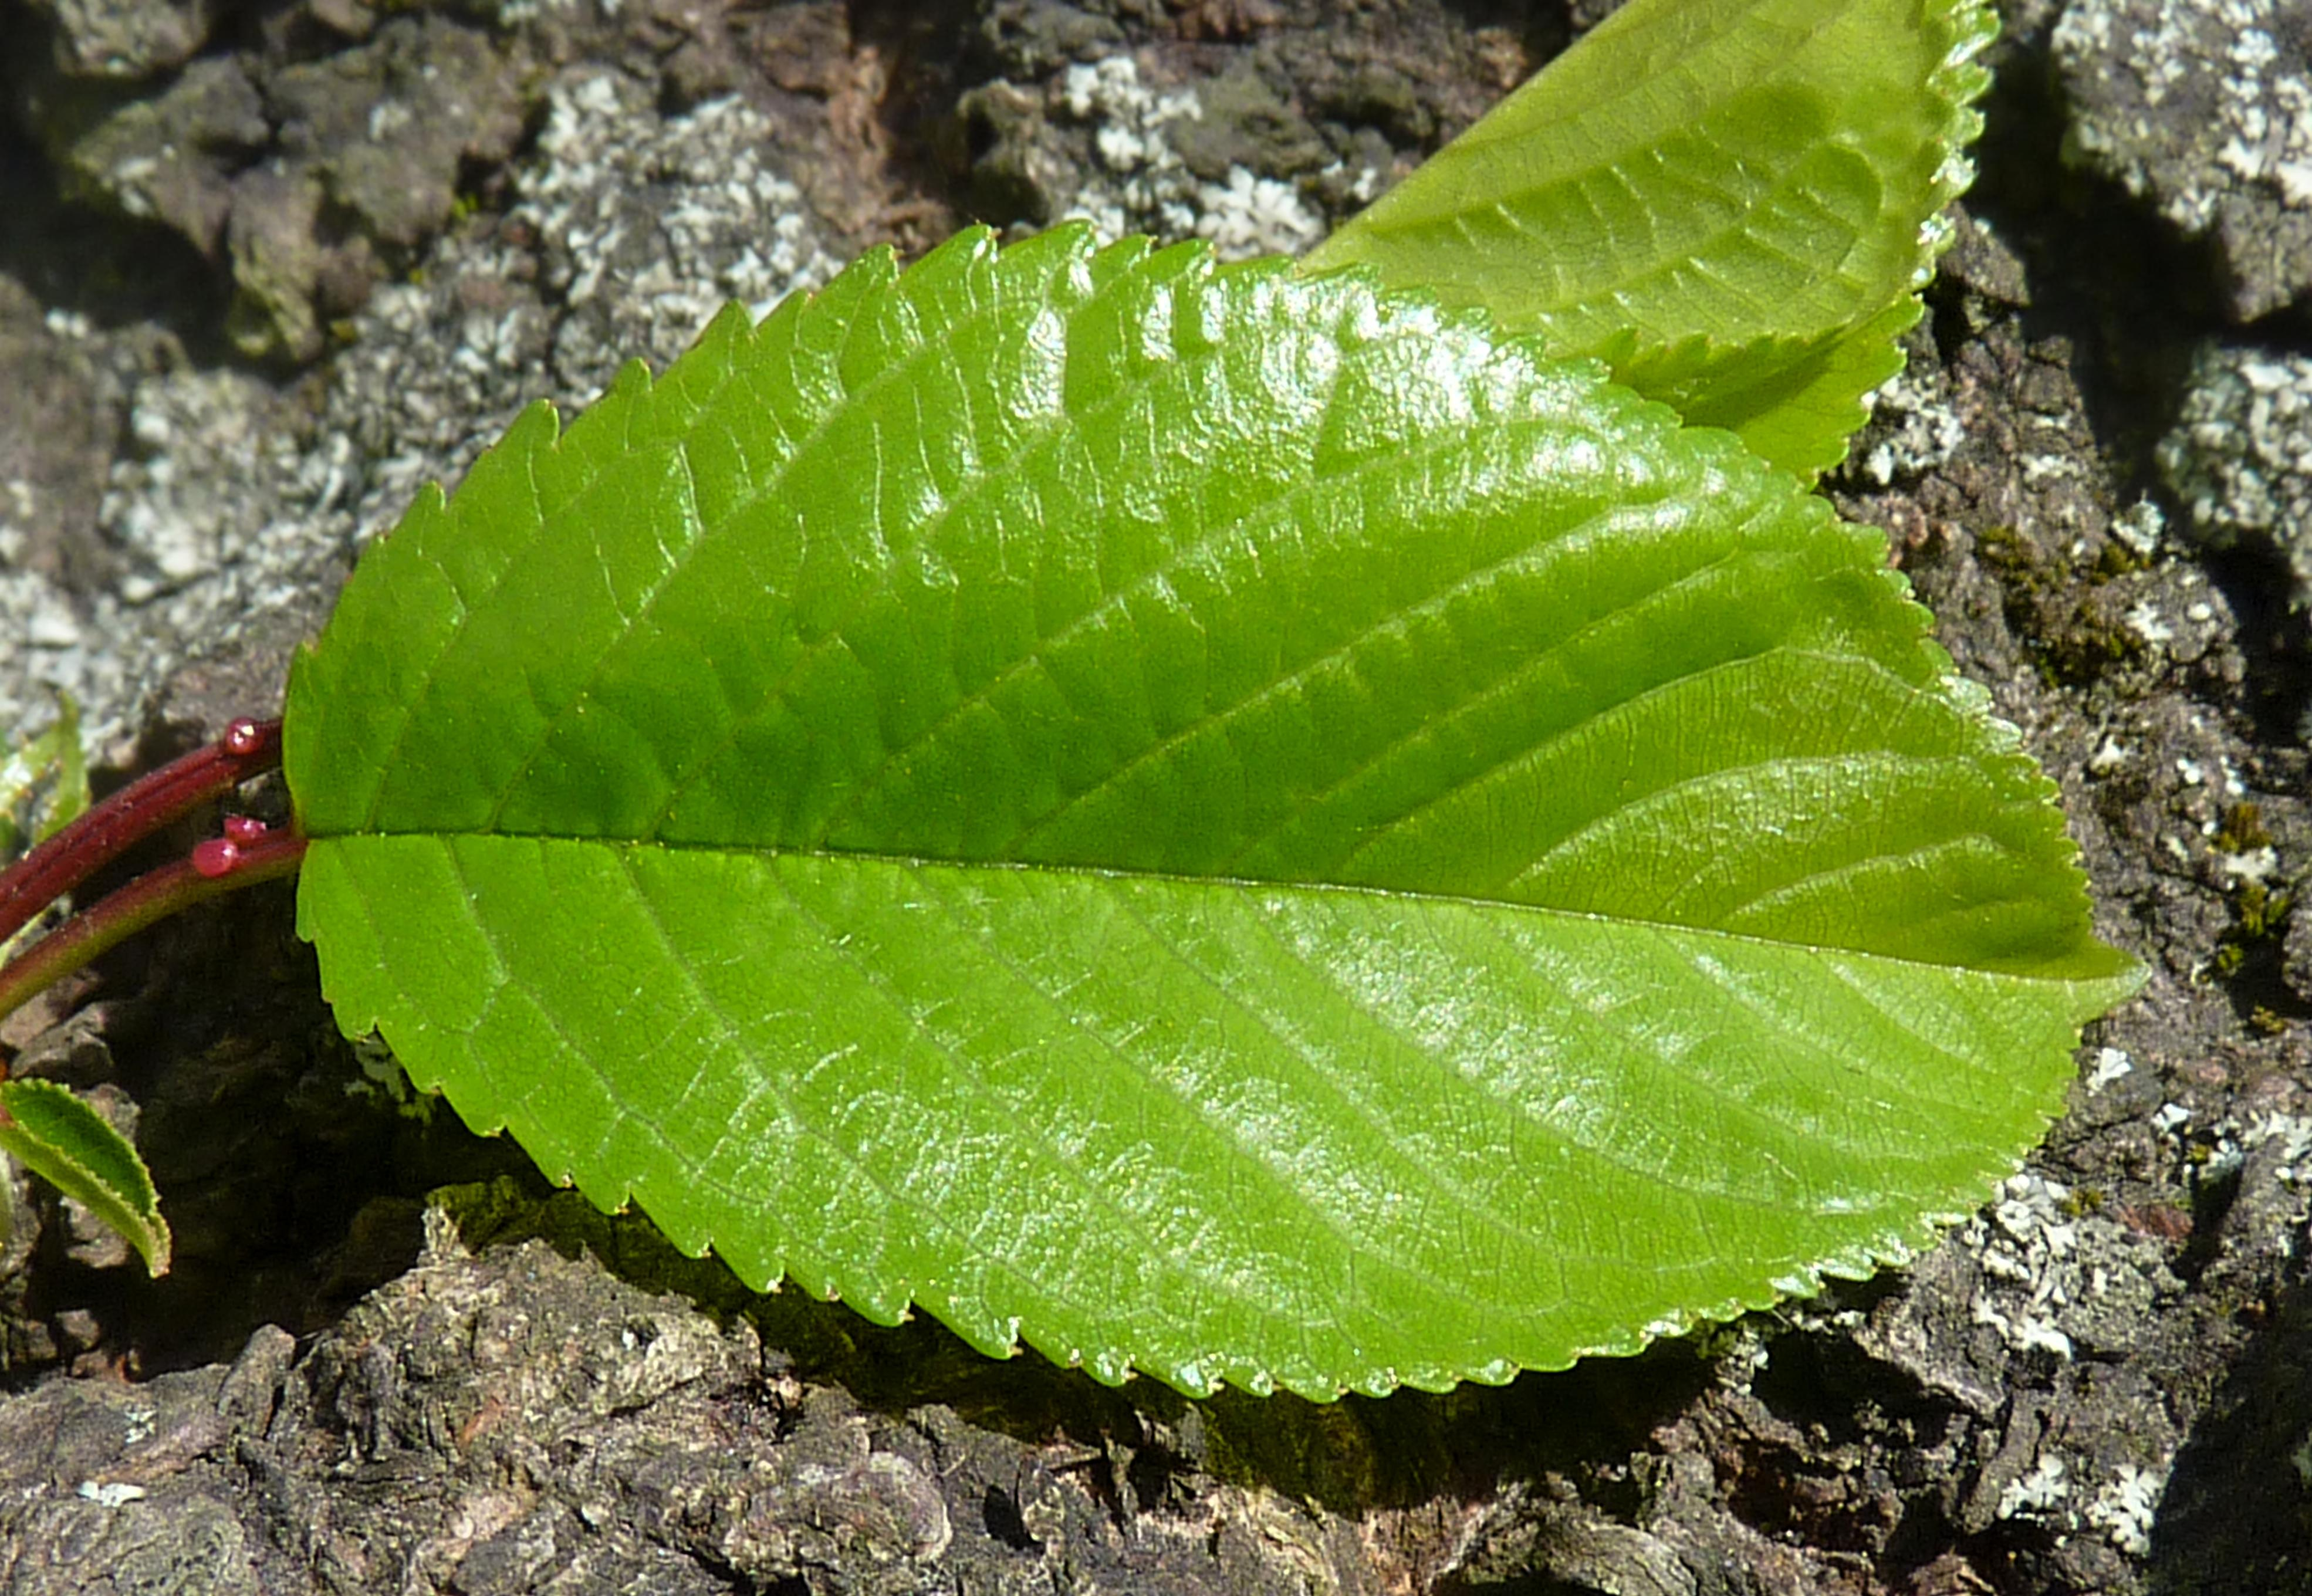Apple leaf: (260, 188, 2149, 1433)
